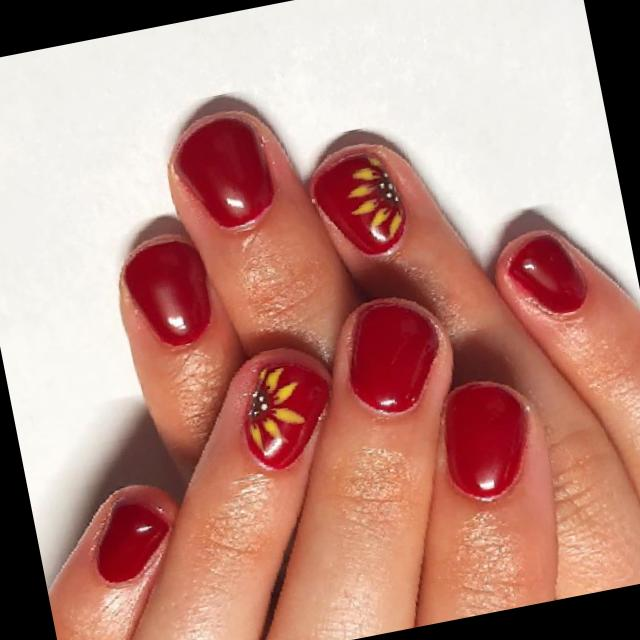Nail: (174, 117, 275, 230), (242, 359, 330, 471), (349, 301, 437, 413), (312, 150, 404, 255), (443, 384, 526, 500), (122, 240, 209, 347), (507, 234, 585, 314), (95, 499, 169, 583)
